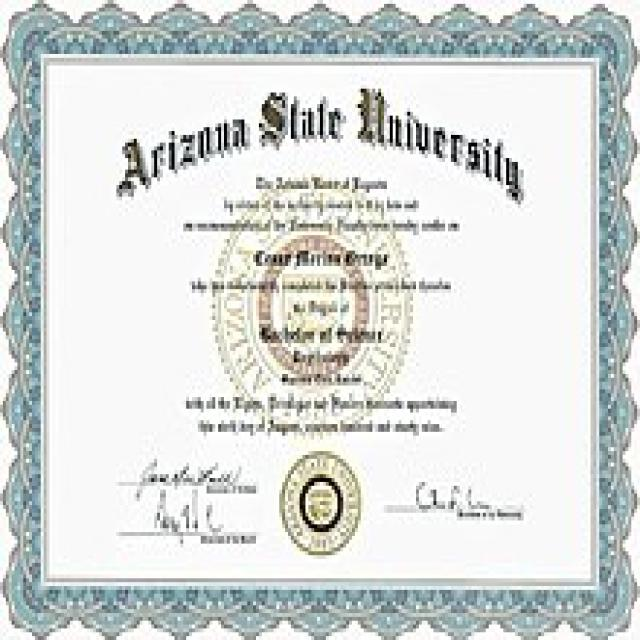degree: (253, 324, 390, 369)
signature: (135, 457, 263, 550)
stamp: (280, 446, 362, 560)
